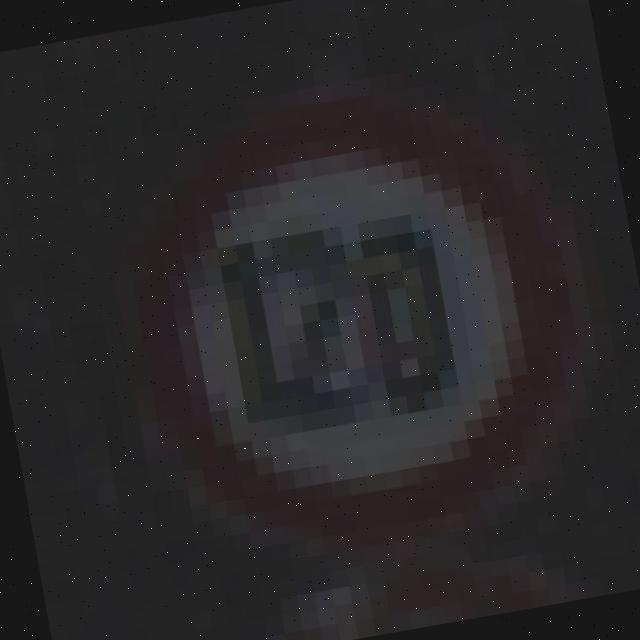Ograniczenie predkosci do 120: (91, 71, 604, 584)
